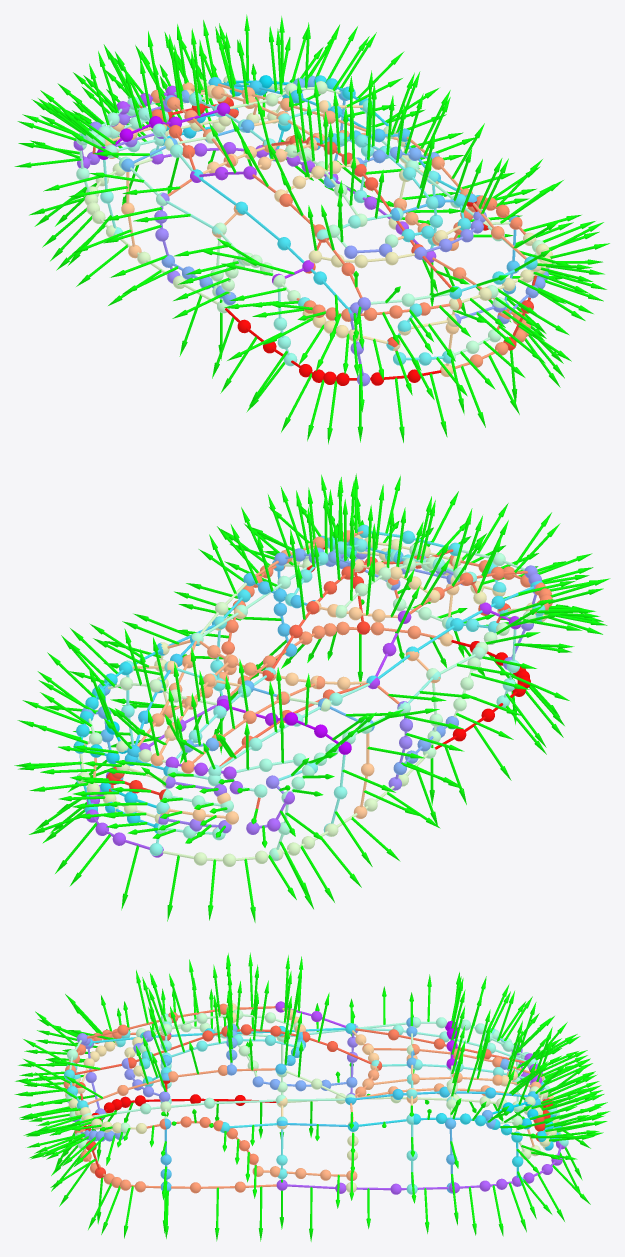
File: ils_car5.gltf
3 renders of one model, top to bottom at view 1: azimuth 30°, elevation 25°; view 2: azimuth 150°, elevation 25°; view 3: azimuth 270°, elevation 25°, orthographic. The views are drawn at different scales.
Size of the model in its own units: 0.6143 by 0.4277 by 1.06.
